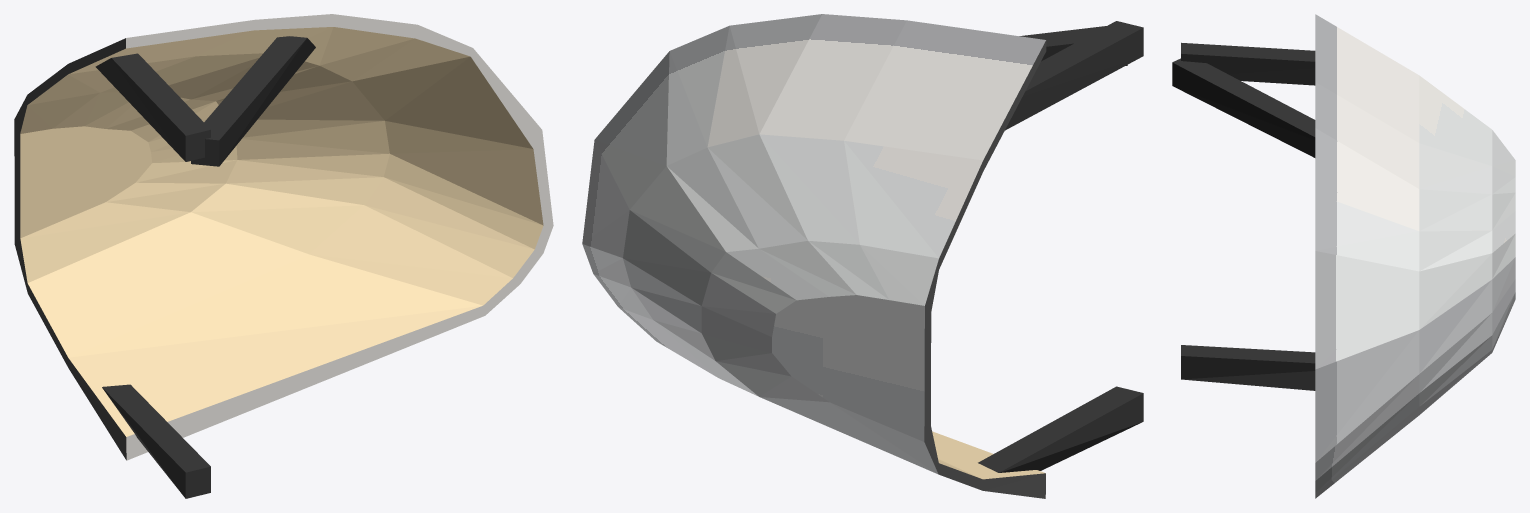
The model's file is cover_right.obj.
3 renders of one model, left to right at view 1: azimuth 30°, elevation 25°; view 2: azimuth 150°, elevation 25°; view 3: azimuth 270°, elevation 25°, orthographic. The views are drawn at different scales.
Visible parts, largest first — view 1: fa4530d8-c42a-d7e3-6b35-3ea18985c9d9, 53ff08f4-729b-fee5-e148-7073f7c8b837, 60e28ac2-fed7-7b1e-1ac3-ba17e4b36866, 0cd70d1d-1204-0c7e-fda6-d2721a6ed5f1; view 2: fa4530d8-c42a-d7e3-6b35-3ea18985c9d9, 0cd70d1d-1204-0c7e-fda6-d2721a6ed5f1, 60e28ac2-fed7-7b1e-1ac3-ba17e4b36866, 53ff08f4-729b-fee5-e148-7073f7c8b837; view 3: fa4530d8-c42a-d7e3-6b35-3ea18985c9d9, 53ff08f4-729b-fee5-e148-7073f7c8b837, 0cd70d1d-1204-0c7e-fda6-d2721a6ed5f1, 60e28ac2-fed7-7b1e-1ac3-ba17e4b36866.
Boxes of the visible parts, x1,y1,x2,y2 form: fa4530d8-c42a-d7e3-6b35-3ea18985c9d9: [14, 14, 553, 460]; 53ff08f4-729b-fee5-e148-7073f7c8b837: [191, 36, 315, 166]; 60e28ac2-fed7-7b1e-1ac3-ba17e4b36866: [95, 53, 210, 161]; 0cd70d1d-1204-0c7e-fda6-d2721a6ed5f1: [102, 384, 210, 498]; fa4530d8-c42a-d7e3-6b35-3ea18985c9d9: [582, 14, 1046, 498]; 0cd70d1d-1204-0c7e-fda6-d2721a6ed5f1: [978, 386, 1143, 472]; 60e28ac2-fed7-7b1e-1ac3-ba17e4b36866: [1005, 21, 1143, 130]; 53ff08f4-729b-fee5-e148-7073f7c8b837: [1019, 26, 1127, 65]; fa4530d8-c42a-d7e3-6b35-3ea18985c9d9: [1315, 14, 1515, 498]; 53ff08f4-729b-fee5-e148-7073f7c8b837: [1172, 58, 1315, 157]; 0cd70d1d-1204-0c7e-fda6-d2721a6ed5f1: [1181, 345, 1315, 390]; 60e28ac2-fed7-7b1e-1ac3-ba17e4b36866: [1181, 42, 1315, 85].
Size of the model in its own units: 1.1 by 1 by 0.8243.
